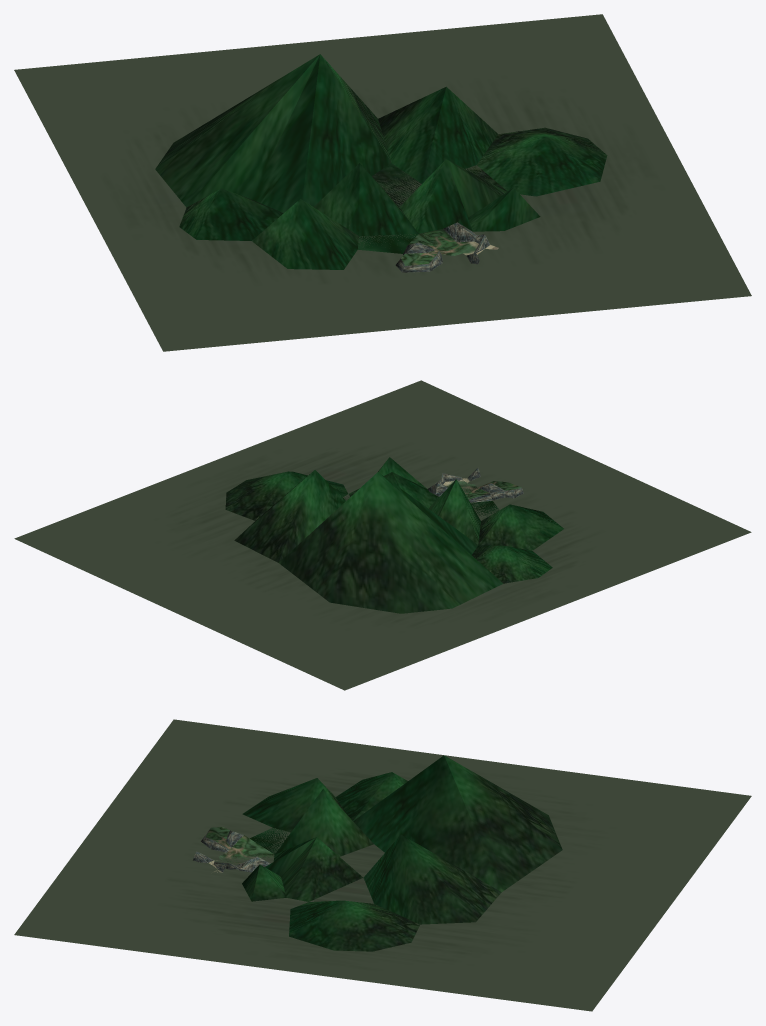
The model's file is pir_m_are_isl_portRoyal_worldmap.fbx.
3 views of the same model, one above another, from view 1: azimuth 30°, elevation 25°; view 2: azimuth 150°, elevation 25°; view 3: azimuth 270°, elevation 25° (orthographic). The views are drawn at different scales.
Visible parts, largest first — view 1: sketchmark, topmesh_1, topmesh_2, topmesh_0; view 2: sketchmark, topmesh_1, topmesh_0, topmesh_2; view 3: sketchmark, topmesh_1, topmesh_2, topmesh_0.
Part boxes in pixels (<box>): sketchmark: <box>14,14,751,351</box>; topmesh_1: <box>155,54,607,269</box>; topmesh_2: <box>401,229,498,265</box>; topmesh_0: <box>395,222,490,272</box>; sketchmark: <box>14,380,751,690</box>; topmesh_1: <box>225,457,563,613</box>; topmesh_0: <box>427,467,523,502</box>; topmesh_2: <box>439,478,521,499</box>; sketchmark: <box>14,719,751,1011</box>; topmesh_1: <box>242,755,562,951</box>; topmesh_2: <box>206,827,274,872</box>; topmesh_0: <box>192,829,270,872</box>.
Size of the model in its own units: 144 by 22.51 by 154.
2 materials, 2 textured.
